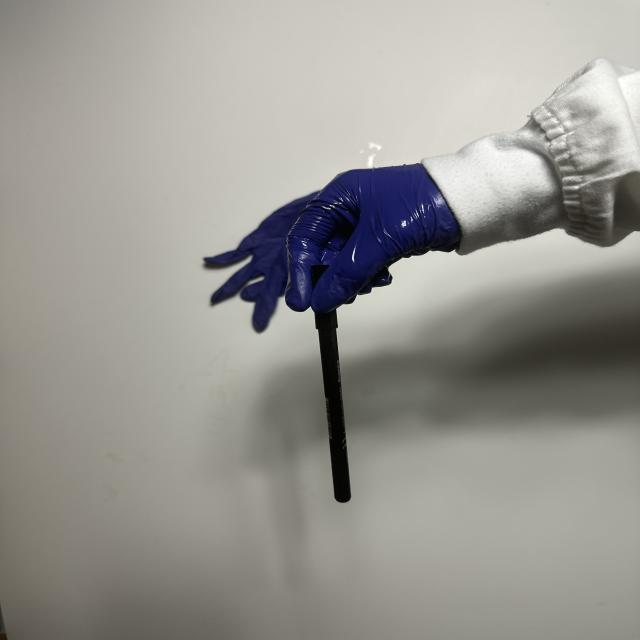gloves_contaminated: (286, 164, 461, 312)
